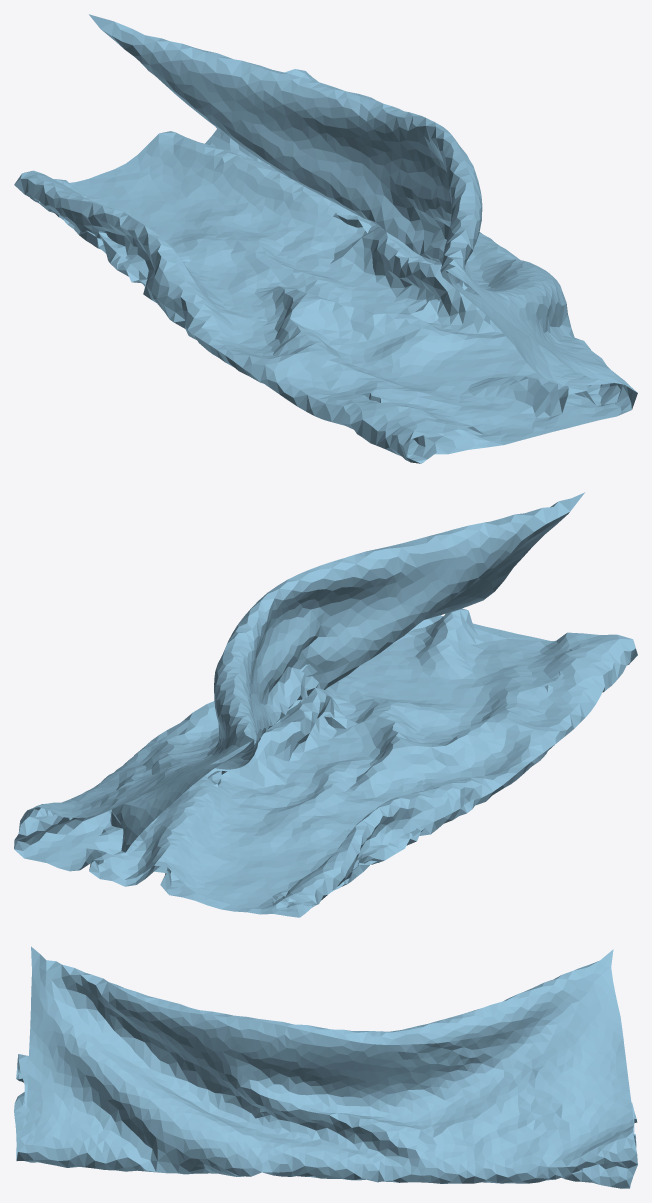
The model's file is frame_17.glb.
3 renders of one model, top to bottom at view 1: azimuth 30°, elevation 25°; view 2: azimuth 150°, elevation 25°; view 3: azimuth 270°, elevation 25°, orthographic. The views are drawn at different scales.
Visible parts, largest first — view 1: frame_17.obj; view 2: frame_17.obj; view 3: frame_17.obj.
Part boxes in pixels (x1,y1,x2,y2): frame_17.obj: [14, 14, 637, 463]; frame_17.obj: [14, 492, 637, 917]; frame_17.obj: [14, 946, 637, 1188].
Bounding box in the file's own units: 0.7954 × 0.4311 × 1.6.
